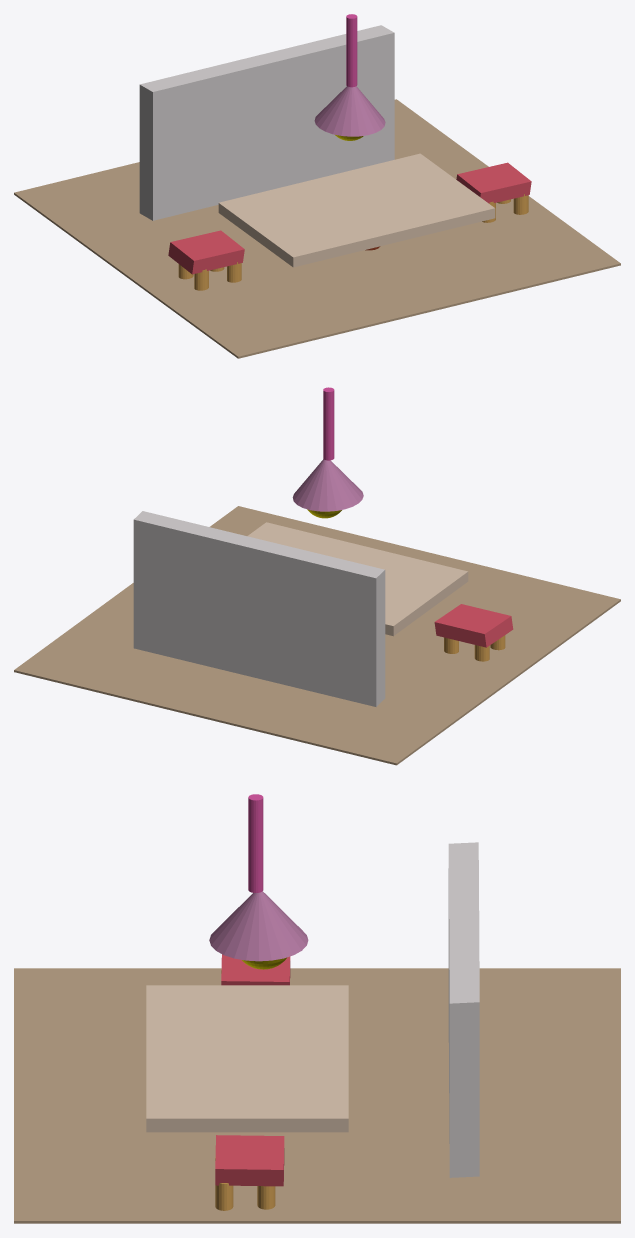
File: room.glb
3 views of the same model, one above another, from view 1: azimuth 30°, elevation 25°; view 2: azimuth 150°, elevation 25°; view 3: azimuth 270°, elevation 25° (orthographic). The views are drawn at different scales.
Parts seen in each view (by area): view 1: Mesh_Mesh_head_geo.001_lambert2SG.001; view 2: Mesh_Mesh_head_geo.001_lambert2SG.001; view 3: Mesh_Mesh_head_geo.001_lambert2SG.001.
Part boxes in pixels (x1,y1,x2,y2): Mesh_Mesh_head_geo.001_lambert2SG.001: (14, 14, 620, 358); Mesh_Mesh_head_geo.001_lambert2SG.001: (14, 387, 620, 765); Mesh_Mesh_head_geo.001_lambert2SG.001: (14, 794, 620, 1223).
Bounding box in the file's own units: 199 × 113 × 202.
